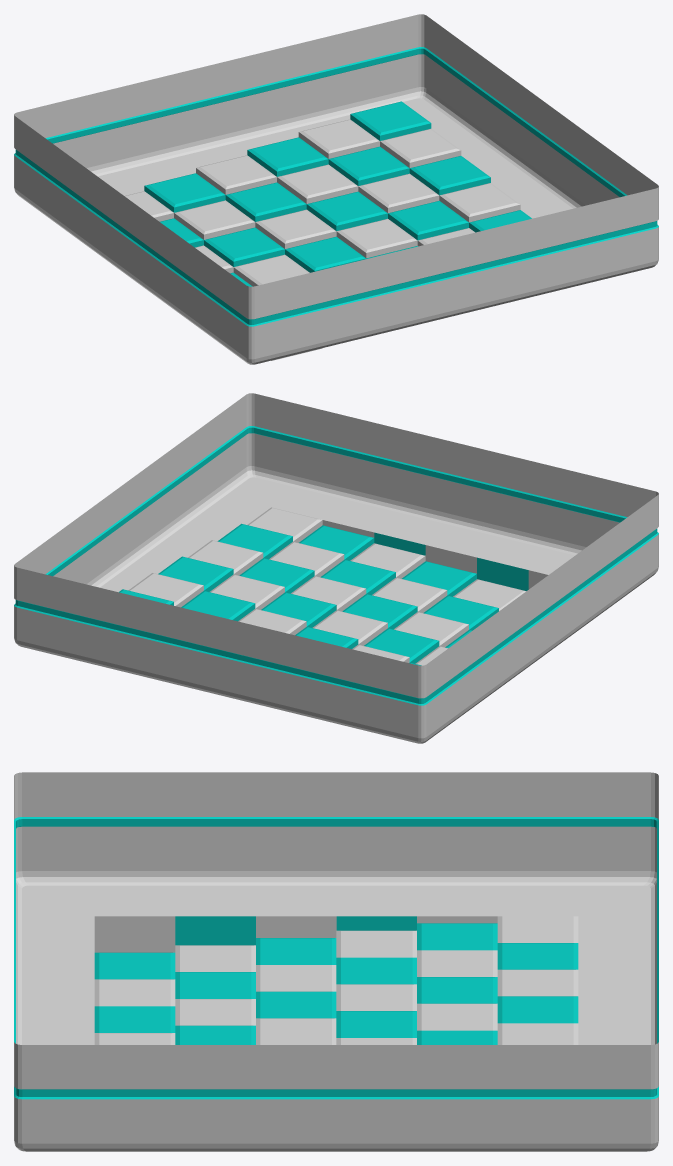
File: 565Env2.fbx
The picture shows the model from 3 angles, top to bottom: view 1: azimuth 30°, elevation 25°; view 2: azimuth 150°, elevation 25°; view 3: azimuth 270°, elevation 25°; orthographic projection. The views are drawn at different scales.
Parts seen in each view (by area): view 1: Plane.001; view 2: Plane.001; view 3: Plane.001.
Part boxes in pixels (left/top/right/bottom): Plane.001: left=14, top=14, right=658, bottom=364; Plane.001: left=14, top=393, right=658, bottom=743; Plane.001: left=14, top=772, right=658, bottom=1151.
Bounding box in the file's own units: 800 × 200 × 800.
